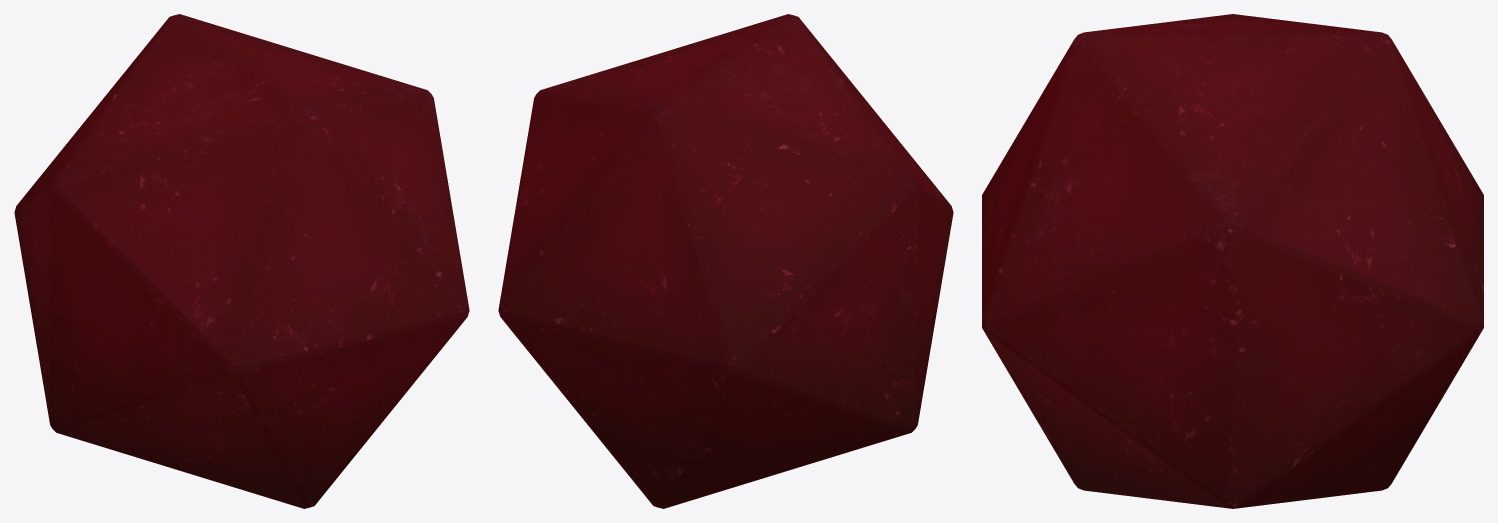
The model's file is gem_d20.glb.
3 renders of one model, left to right at view 1: azimuth 30°, elevation 25°; view 2: azimuth 150°, elevation 25°; view 3: azimuth 270°, elevation 25°, orthographic. The views are drawn at different scales.
Visible parts, largest first — view 1: d20; view 2: d20; view 3: d20.
Boxes of the visible parts, x1,y1,x2,y2 form: d20: [14, 14, 469, 508]; d20: [498, 14, 953, 508]; d20: [982, 14, 1483, 508].
Size of the model in its own units: 170 by 170 by 170.
Materials: 1 (1 with a texture image).
